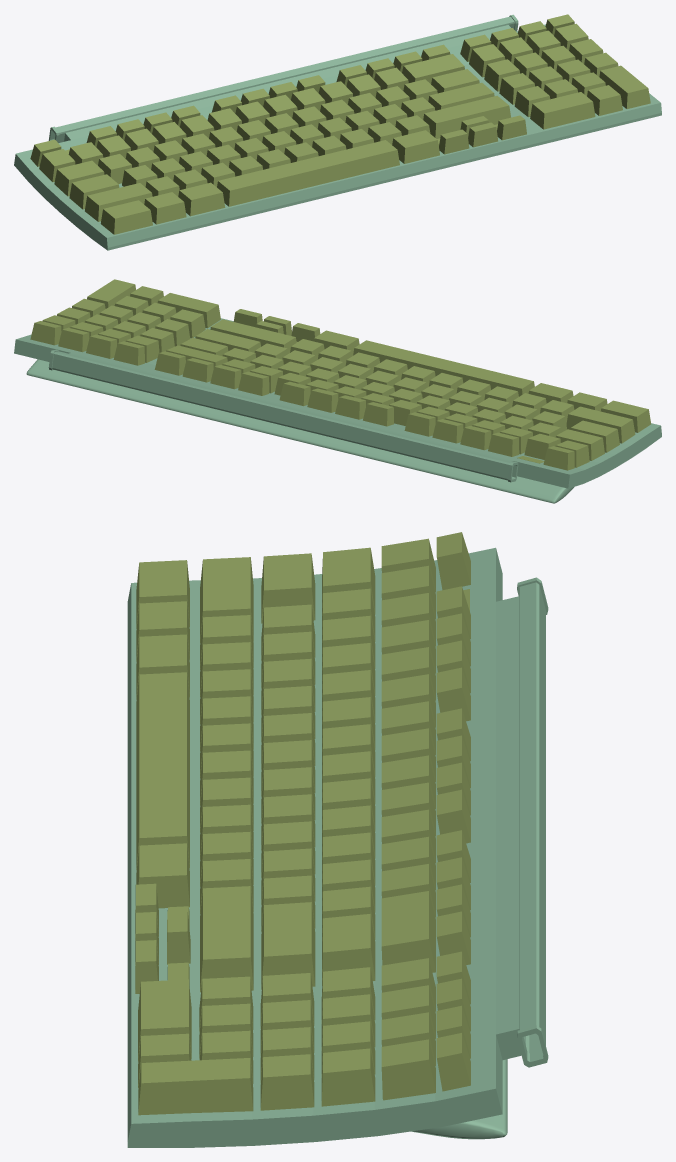
File: Computer_Gen_2_Keyboard.fbx
3 views of the same model, one above another, from view 1: azimuth 30°, elevation 25°; view 2: azimuth 150°, elevation 25°; view 3: azimuth 270°, elevation 25° (orthographic). The views are drawn at different scales.
Parts seen in each view (by area): view 1: mesh_keys, mesh_keyboard; view 2: mesh_keys, mesh_keyboard; view 3: mesh_keys, mesh_keyboard.
Part boxes in pixels (left/top/right/bottom): mesh_keys: left=30, top=14, right=650, bottom=234; mesh_keyboard: left=14, top=14, right=661, bottom=250; mesh_keys: left=30, top=279, right=650, bottom=470; mesh_keyboard: left=14, top=318, right=661, bottom=503; mesh_keys: left=135, top=532, right=470, bottom=1115; mesh_keyboard: left=127, top=547, right=548, bottom=1147.
Size of the model in its own units: 46.8 by 3.63 by 15.38.
